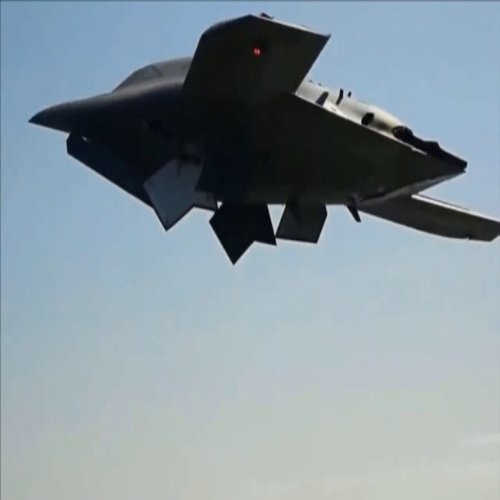uav844: (26, 12, 498, 262)
